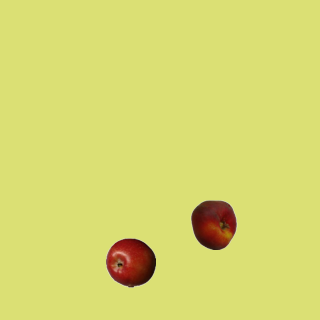Apple Braeburn: (105, 237, 155, 287)
Nectarine Flat: (188, 199, 238, 249)
